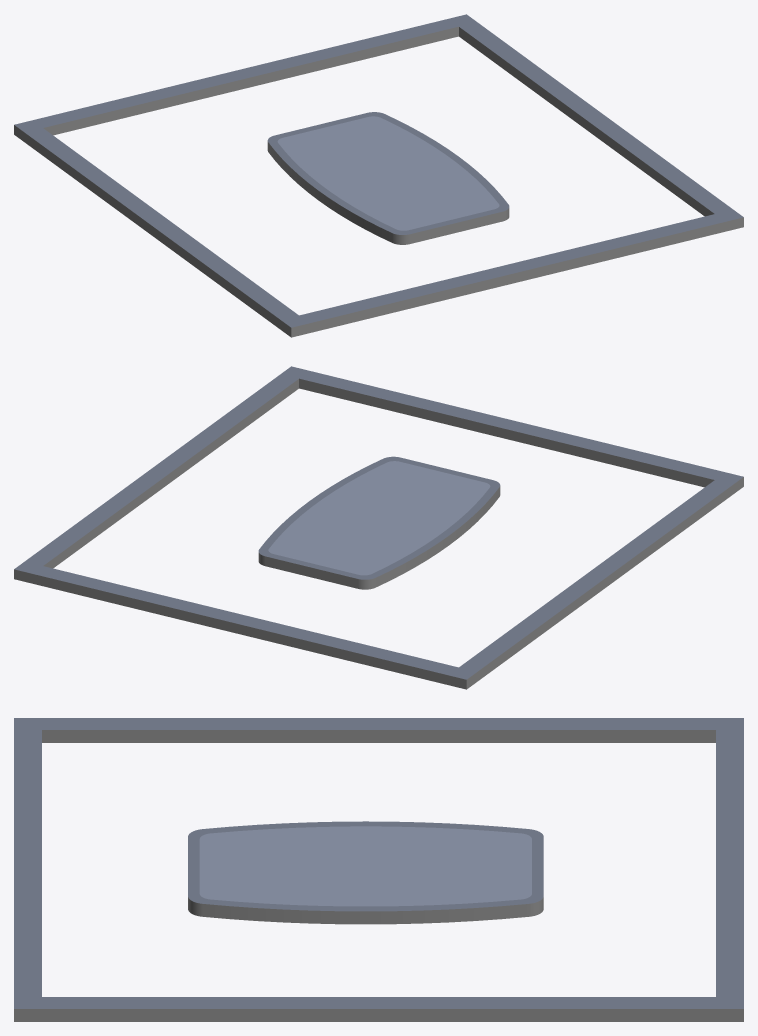
Rendered from floor.fbx.
3 views of the same model, one above another, from view 1: azimuth 30°, elevation 25°; view 2: azimuth 150°, elevation 25°; view 3: azimuth 270°, elevation 25° (orthographic). The views are drawn at different scales.
Visible parts, largest first — view 1: Floor; view 2: Floor; view 3: Floor.
Part boxes in pixels (bbox=[...]): Floor: bbox=[14, 14, 743, 337]; Floor: bbox=[14, 366, 743, 689]; Floor: bbox=[14, 718, 743, 1021].
Size of the model in its own units: 747 by 15.56 by 792.
